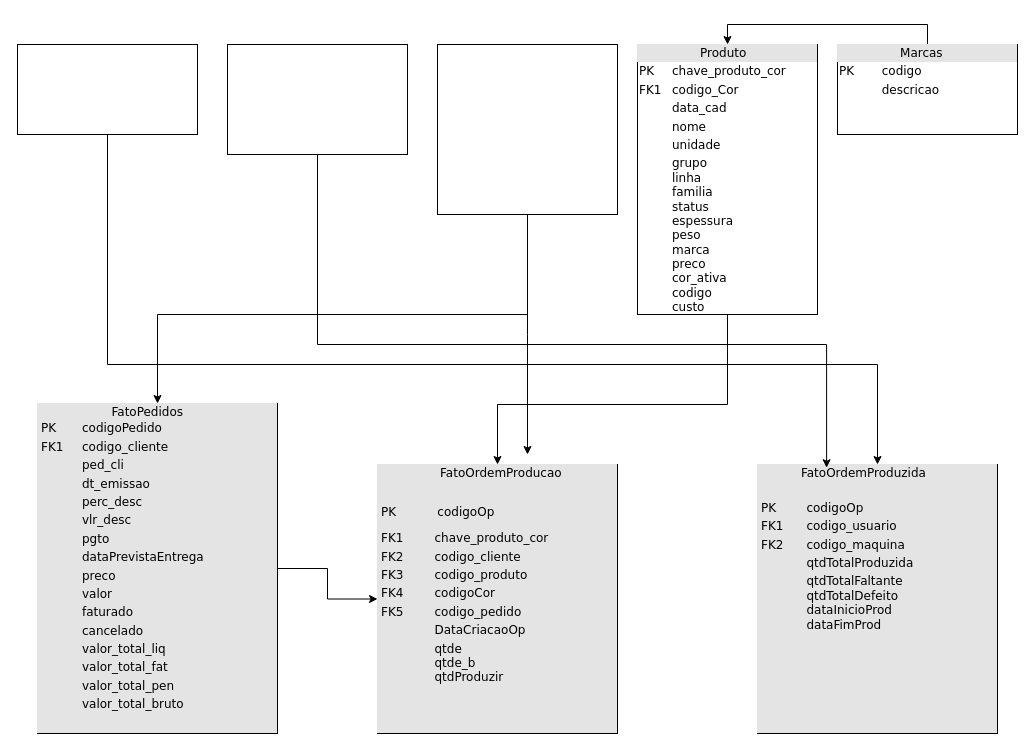
The diagram is 1035 pixels wide and 751 high, and some of its shapes have lost their labels. Each missing label, with the centre of its shape:
"Clientes PK codigo nome nomeFantasia telefone email nome_cid cod_est ativo" goes at (527,129).
"Maquinas PK codigo nome tipoMaquina" goes at (107,89).
"Usuarios PK codigo nome cargo" goes at (317,99).
